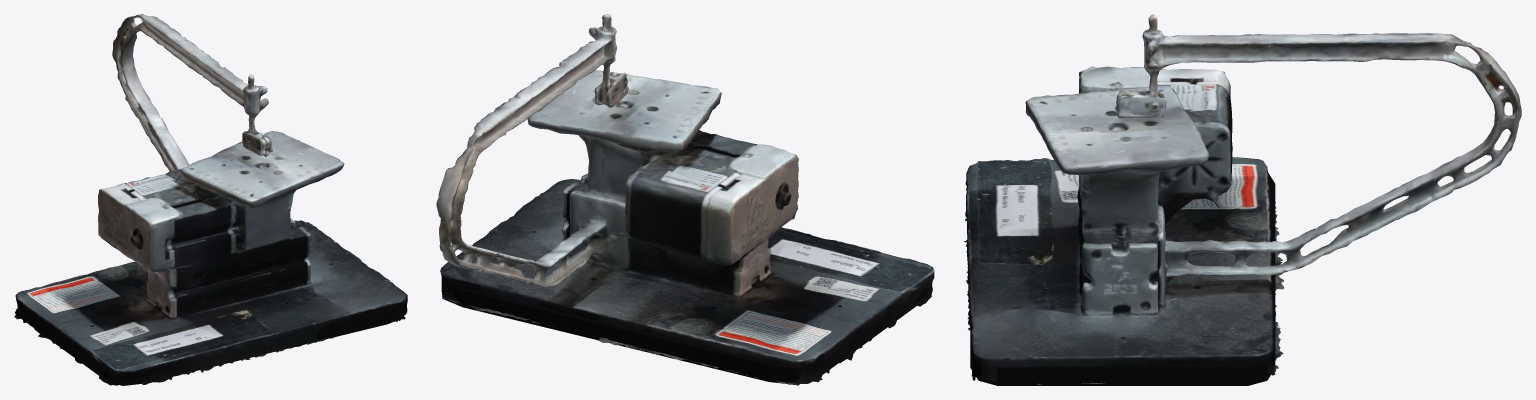
File: machine_3.glb
3 renders of one model, left to right at view 1: azimuth 30°, elevation 25°; view 2: azimuth 150°, elevation 25°; view 3: azimuth 270°, elevation 25°, orthographic. The views are drawn at different scales.
Parts seen in each view (by area): view 1: Mesh_0, Cube; view 2: Mesh_0, Cube; view 3: Mesh_0, Cube.
Boxes of the visible parts, x1,y1,x2,y2 form: Mesh_0: [14, 14, 407, 385]; Cube: [21, 291, 394, 385]; Mesh_0: [436, 14, 934, 385]; Cube: [441, 259, 927, 384]; Mesh_0: [963, 14, 1521, 384]; Cube: [970, 172, 1275, 385].
Bounding box in the file's own units: 0.6607 × 0.4586 × 0.758.
Materials: 2 (1 with a texture image).
